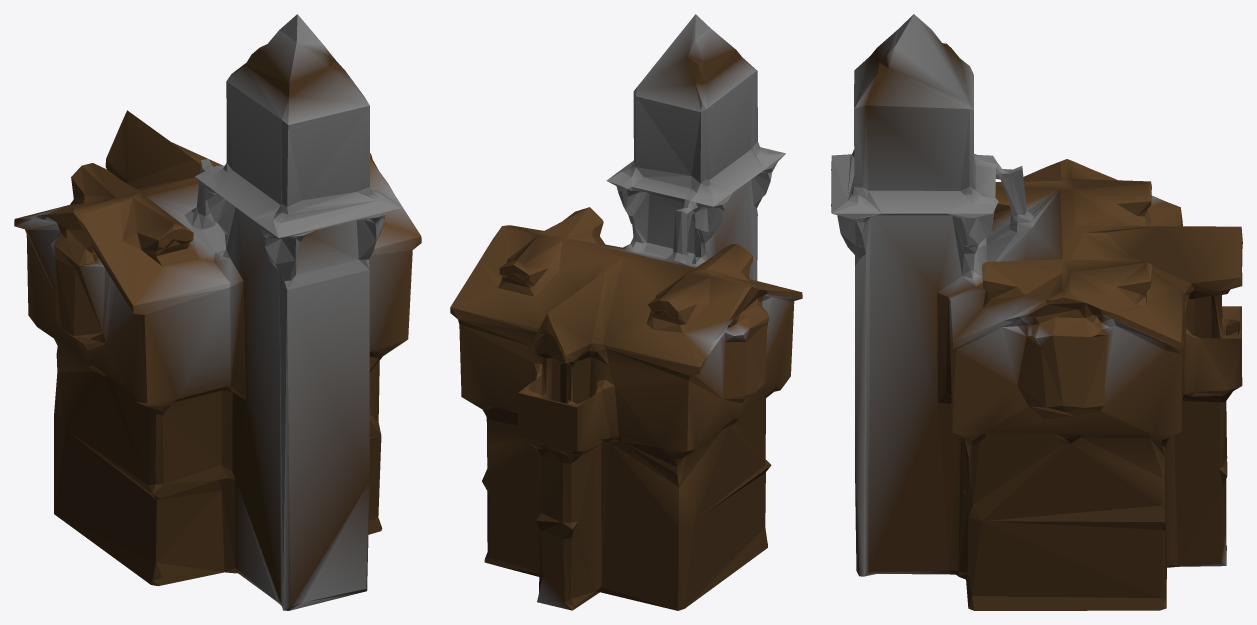
Rendered from Medieval Houses(3).glb.
The picture shows the model from 3 angles, left to right: view 1: azimuth 30°, elevation 25°; view 2: azimuth 150°, elevation 25°; view 3: azimuth 270°, elevation 25°; orthographic projection. The views are drawn at different scales.
Parts seen in each view (by area): view 1: Root; view 2: Root; view 3: Root.
Part boxes in pixels (x1=…): Root: x1=14, y1=14, x2=421, y2=610; Root: x1=450, y1=14, x2=802, y2=610; Root: x1=831, y1=14, x2=1242, y2=610.
Size of the model in its own units: 8.87 by 15.59 by 10.69.
